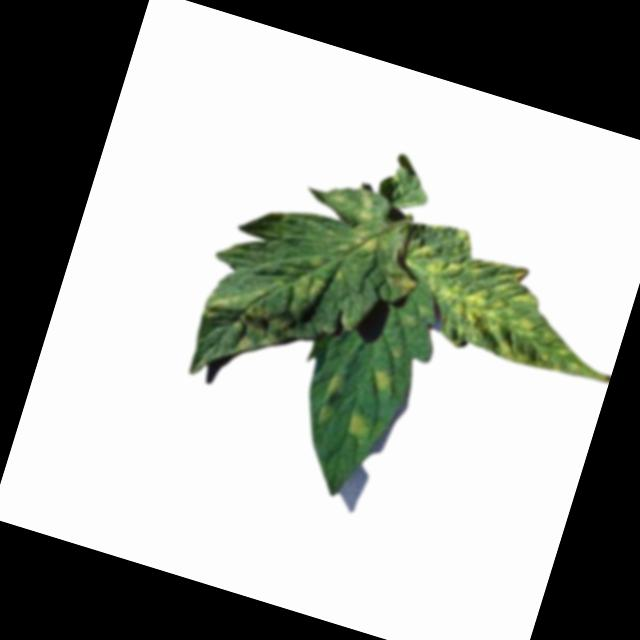Leaf_Mold: (385, 215, 629, 386), (196, 274, 307, 367), (341, 183, 397, 256), (291, 251, 334, 306), (312, 368, 350, 430), (364, 366, 396, 401), (346, 410, 373, 441)
